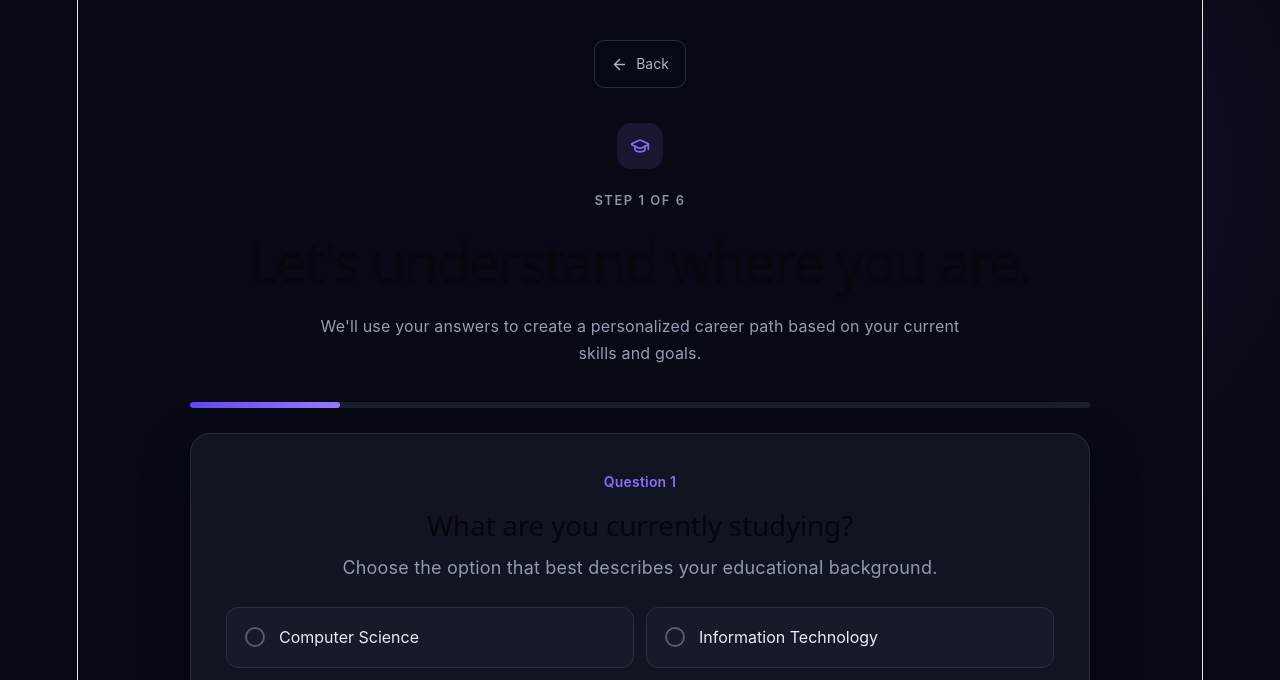
Assessment page › allows multiple technical skills to be selected
Click the button "Computer Science" at (349,637), box x1=226 y1=607 x2=634 y2=668
(page scrolled)
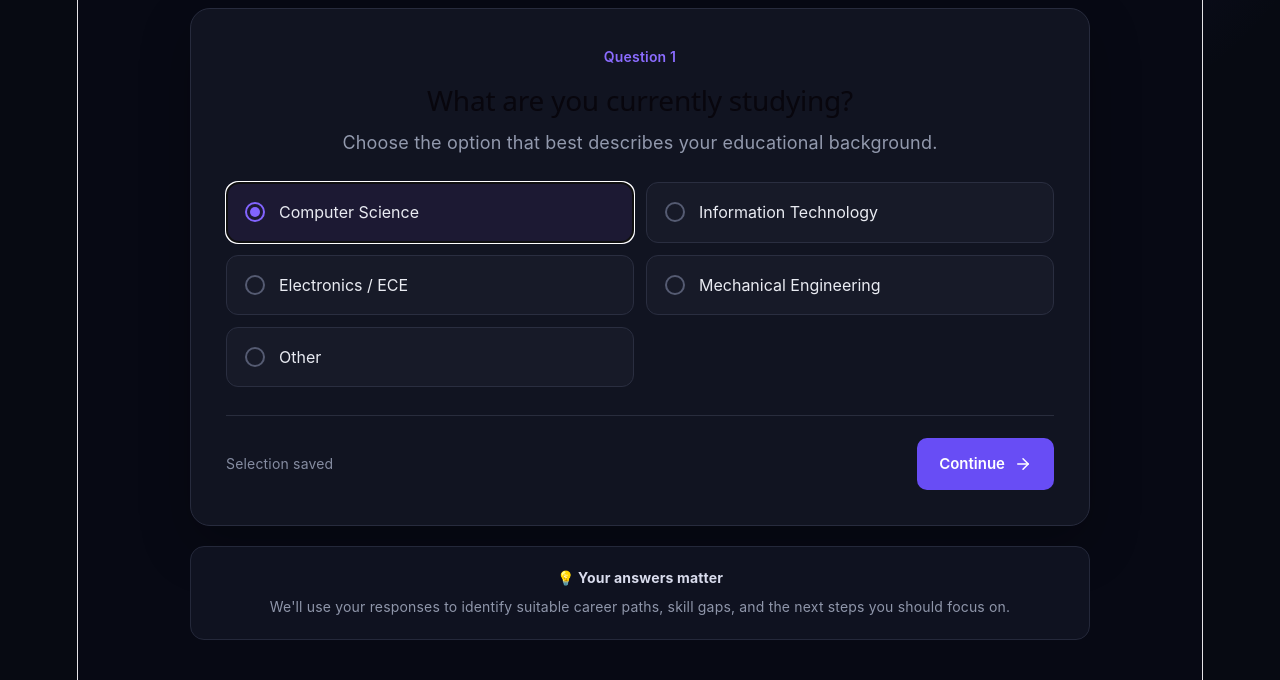
Click the button "Continue" at (986,464), box x1=917 y1=438 x2=1054 y2=490
(page scrolled)
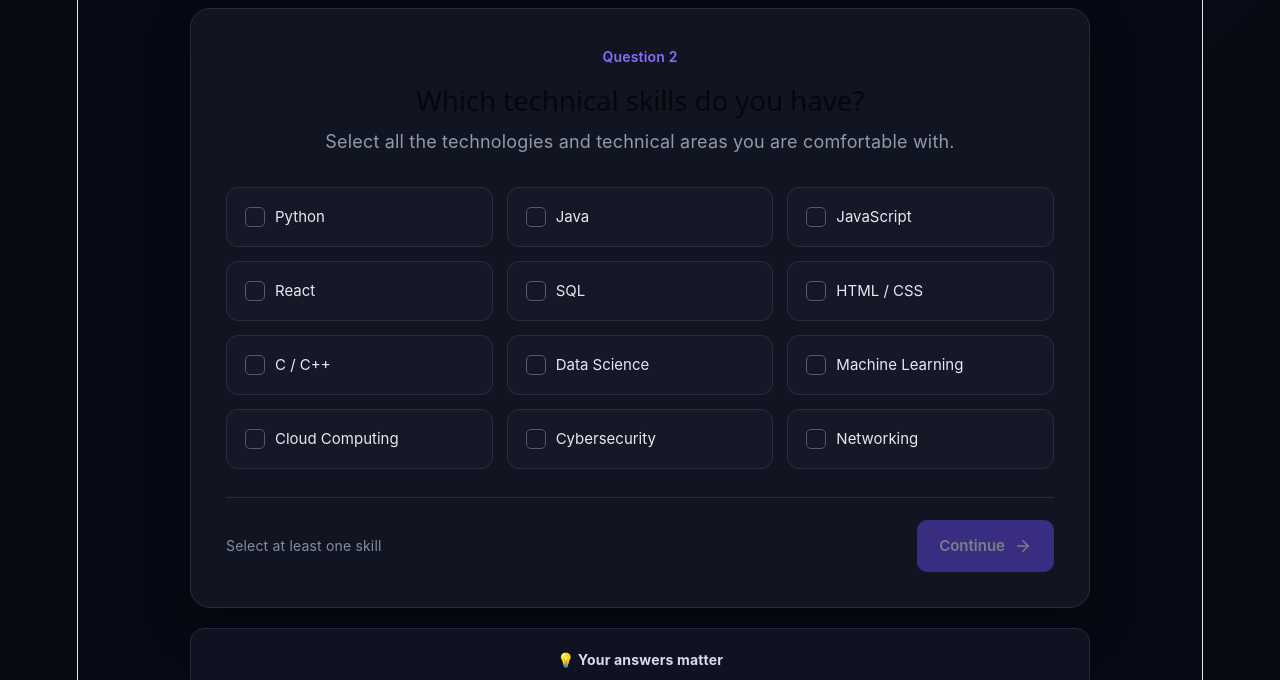
Click the button "Python" at (300,216), box x1=226 y1=187 x2=493 y2=247
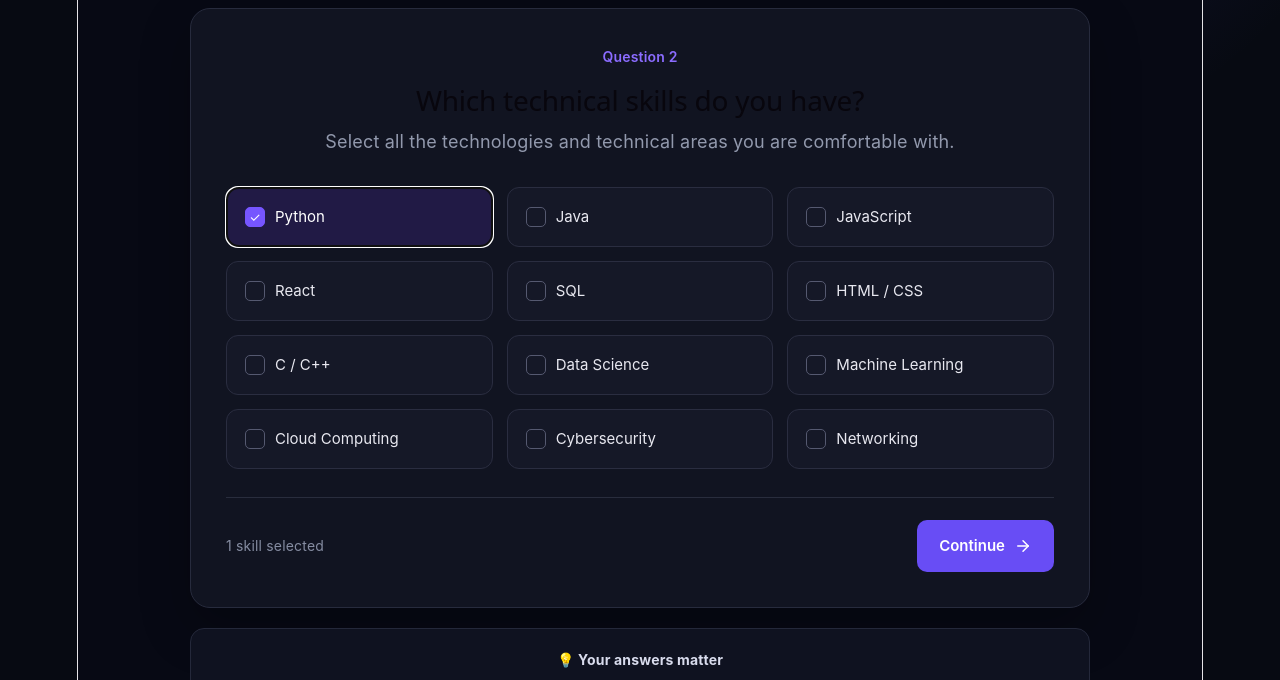
Click the button "React" at (295,290), box x1=226 y1=261 x2=493 y2=321
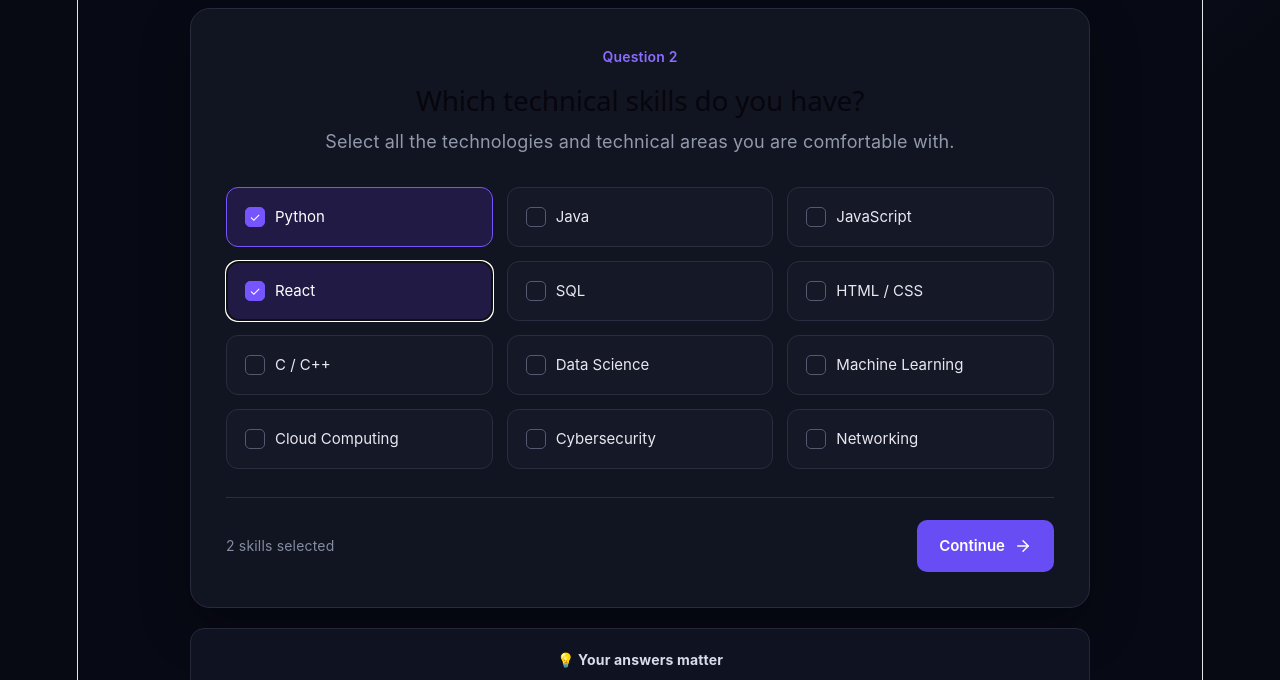
Check: the button "Continue" is enabled, box x1=917 y1=520 x2=1054 y2=572
Check: the text "2 skills selected" is shown, box x1=226 y1=533 x2=334 y2=559
